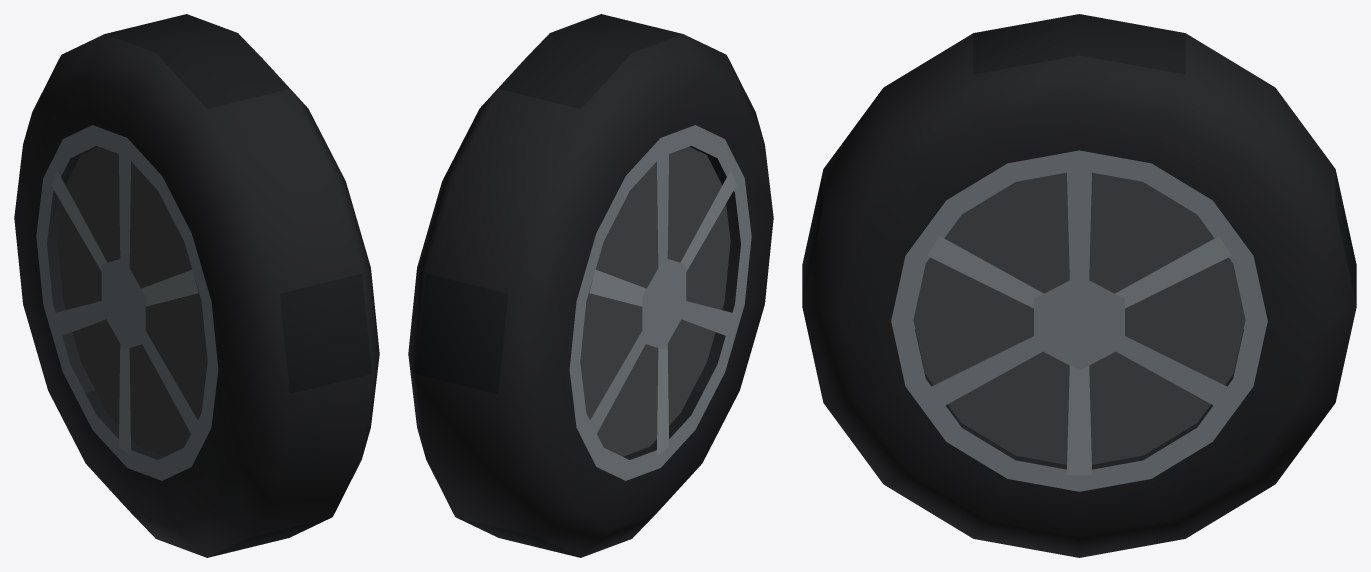
Rendered from AarisCivilWheel.obj.
3 renders of one model, left to right at view 1: azimuth 30°, elevation 25°; view 2: azimuth 150°, elevation 25°; view 3: azimuth 270°, elevation 25°, orthographic. The views are drawn at different scales.
Visible parts, largest first — view 1: AarisCivilWheel; view 2: AarisCivilWheel; view 3: AarisCivilWheel.
Part boxes in pixels (x1,y1,x2,y2): AarisCivilWheel: (14, 14, 379, 557); AarisCivilWheel: (408, 14, 773, 557); AarisCivilWheel: (802, 14, 1356, 557).
Bounding box in the file's own units: 0.246 × 0.78 × 0.78.
1 material, 1 textured.
